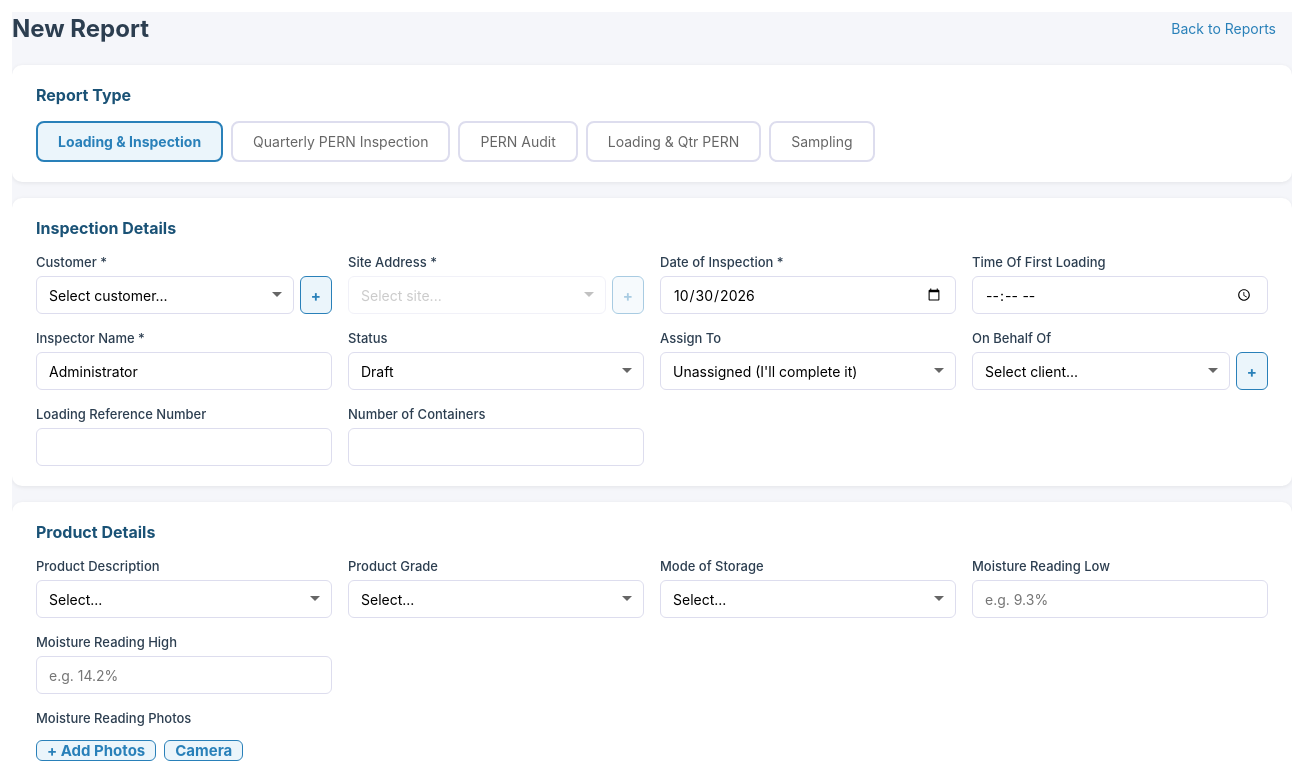
Test: ReportEdit - New Report › defaults to loading_inspection and can switch to Quarterly PERN
This screenshot has width=1304, height=768.
Check: the heading "New Report" is shown, box [12, 14, 149, 43]
Check: the text "Loading Reference Number" is shown, box [36, 406, 206, 422]
What coordinates should you click on to do the following:
click the button "Quarterly PERN Inspection"
I would click on:
 (341, 142)
Its box is [231, 121, 450, 162].
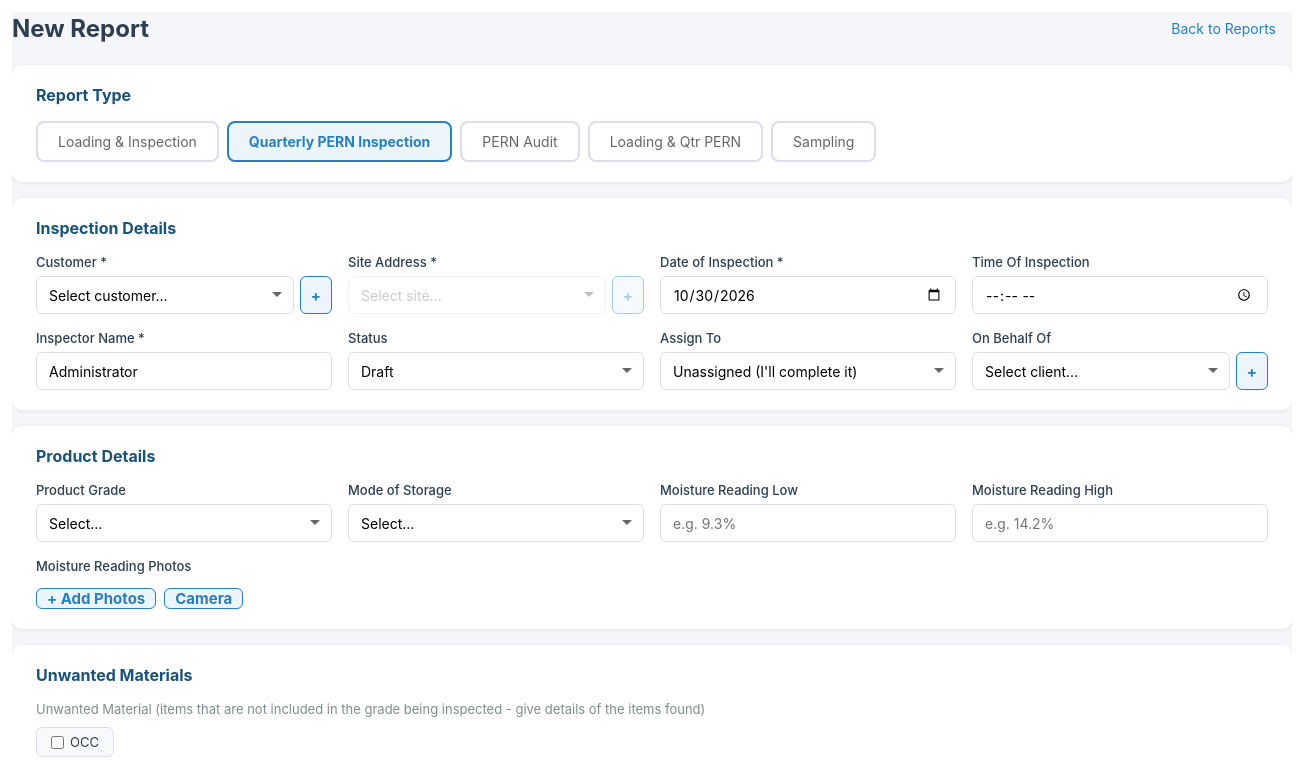
Check: the text "Loading Reference Number" is gone
